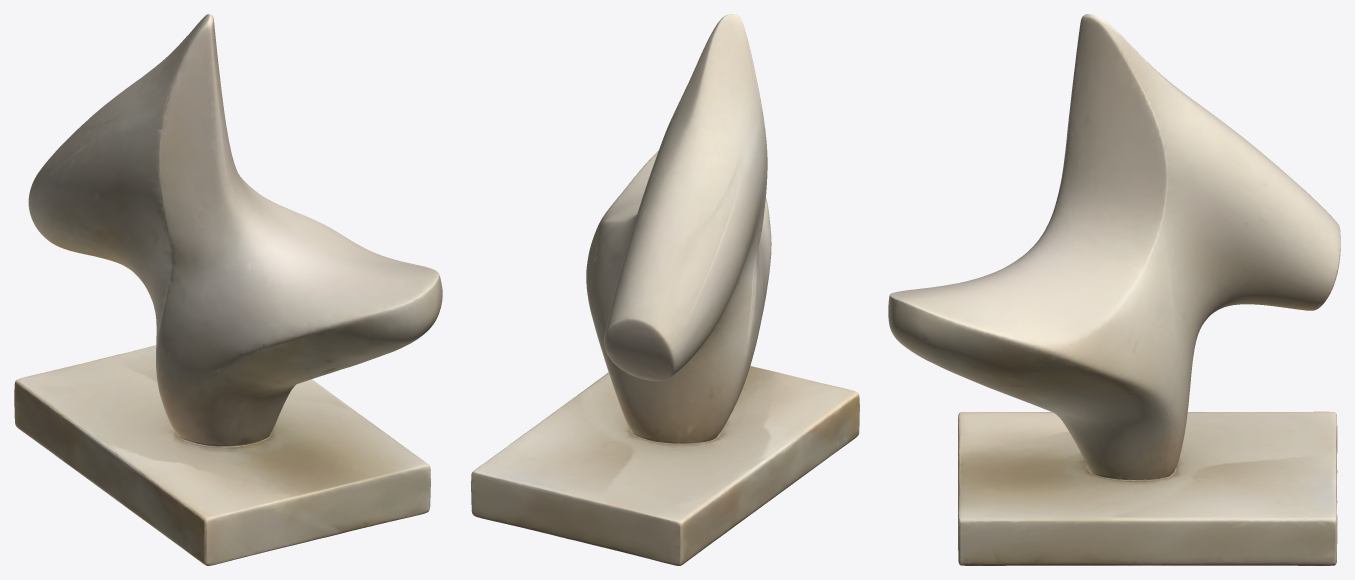
Rendered from henry_moor.glb.
3 renders of one model, left to right at view 1: azimuth 30°, elevation 25°; view 2: azimuth 150°, elevation 25°; view 3: azimuth 270°, elevation 25°, orthographic. The views are drawn at different scales.
Parts seen in each view (by area): view 1: model; view 2: model; view 3: model.
Boxes of the visible parts, x1,y1,x2,y2 form: model: [14, 14, 442, 565]; model: [471, 14, 859, 565]; model: [888, 14, 1340, 565].
Size of the model in its own units: 0.8983 by 1.84 by 1.57.
Materials: 1 (1 with a texture image).
